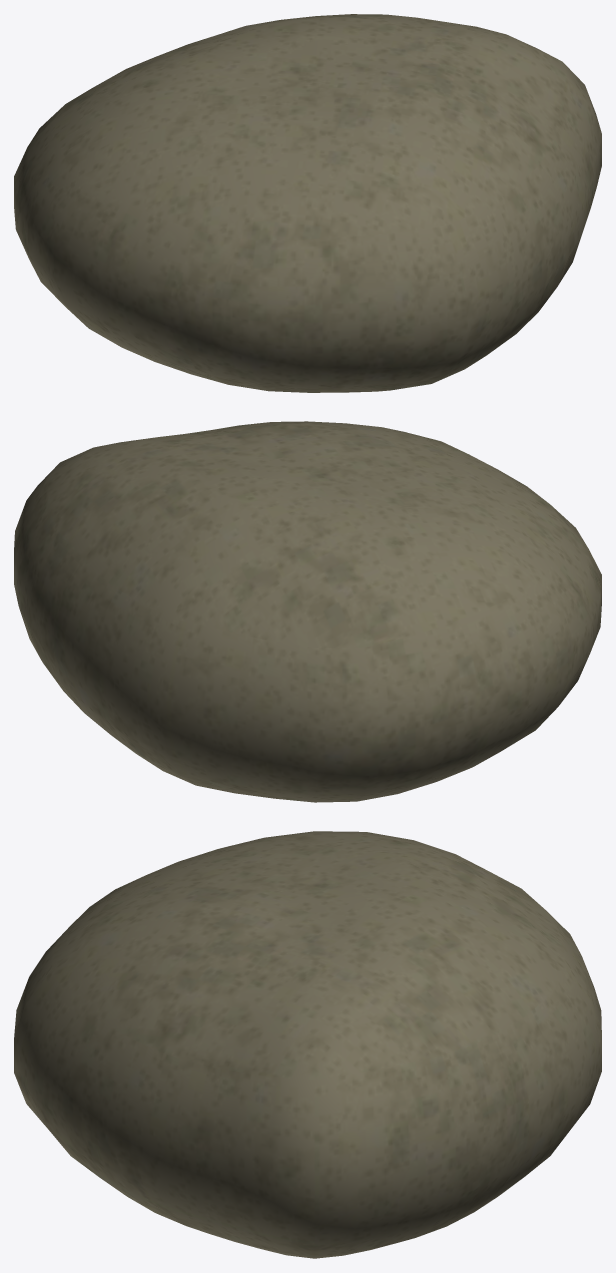
The model's file is chunky_cobble_07.glb.
3 views of the same model, one above another, from view 1: azimuth 30°, elevation 25°; view 2: azimuth 150°, elevation 25°; view 3: azimuth 270°, elevation 25° (orthographic). The views are drawn at different scales.
Parts seen in each view (by area): view 1: chunky_cobble_07; view 2: chunky_cobble_07; view 3: chunky_cobble_07.
Boxes of the visible parts, <box> form: chunky_cobble_07: <box>14,14,601,392</box>; chunky_cobble_07: <box>14,421,601,802</box>; chunky_cobble_07: <box>14,831,601,1258</box>.
Bounding box in the file's own units: 0.0619 × 0.0318 × 0.0546.
1 material, 1 textured.
